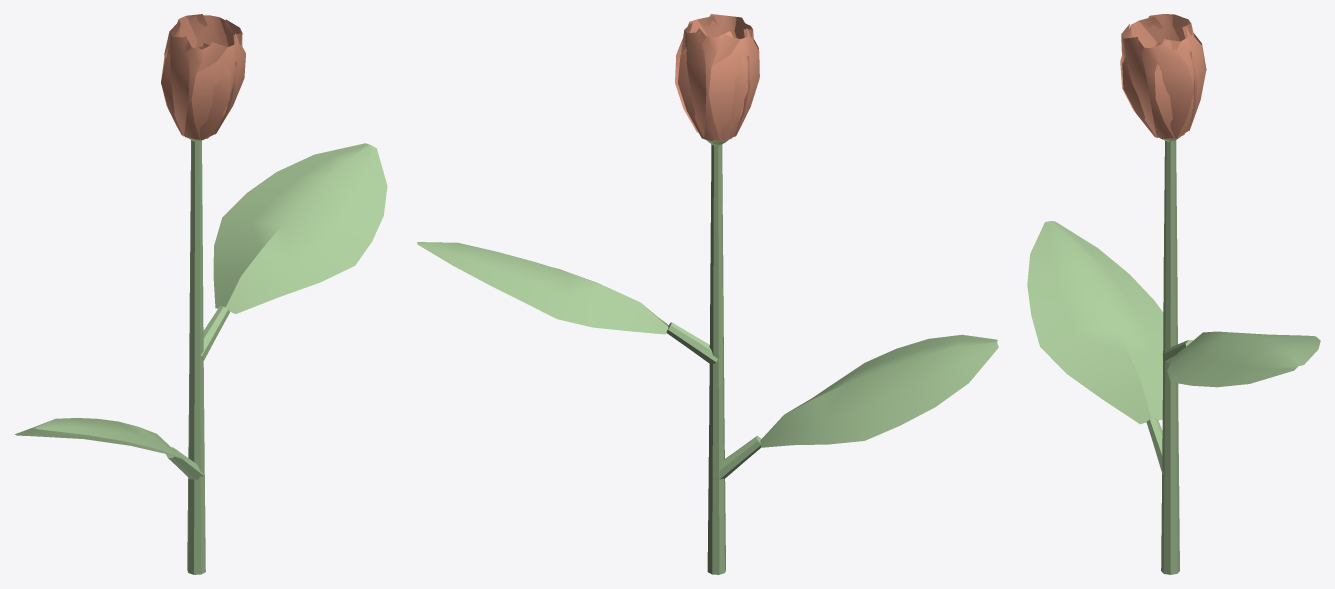
Rendered from tulip.glb.
3 views of the same model, side by side, from view 1: azimuth 30°, elevation 25°; view 2: azimuth 150°, elevation 25°; view 3: azimuth 270°, elevation 25° (orthographic).
Parts seen in each view (by area): view 1: foliage, flower, stem; view 2: foliage, flower, stem; view 3: foliage, flower, stem.
Boxes of the visible parts, box(x1,y1,x2,y2) form: foliage: box(15, 143, 387, 479); flower: box(161, 14, 245, 139); stem: box(187, 140, 205, 574); foliage: box(417, 242, 998, 479); flower: box(675, 14, 759, 141); stem: box(707, 144, 725, 574); foliage: box(1027, 221, 1320, 474); flower: box(1120, 14, 1206, 139); stem: box(1161, 140, 1179, 574).
Bounding box in the file's own units: 0.5035 × 0.564 × 0.2729.
